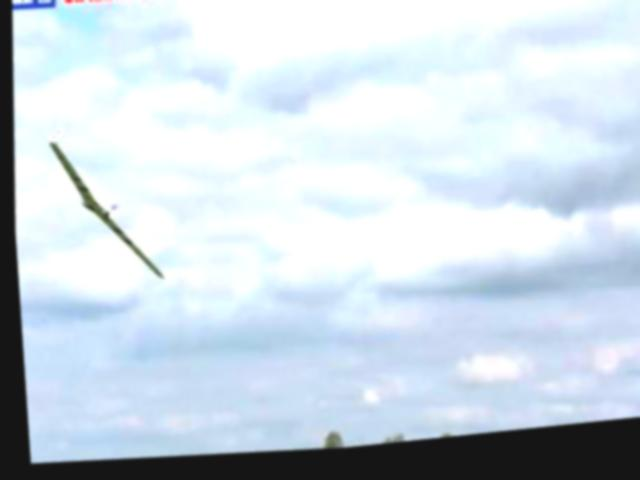flying wing: (37, 116, 184, 309)
